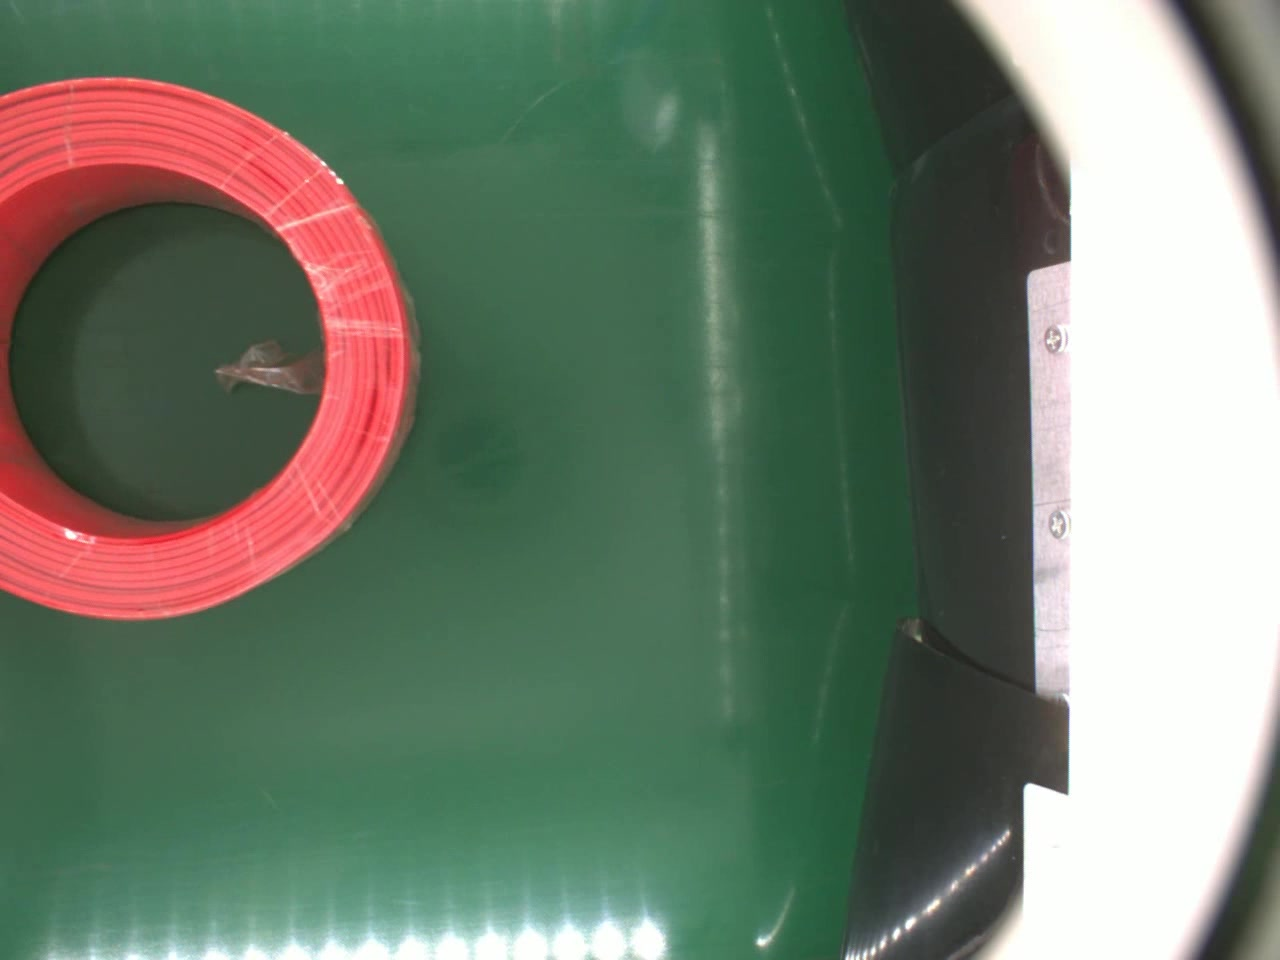red: (0, 73, 419, 622)
